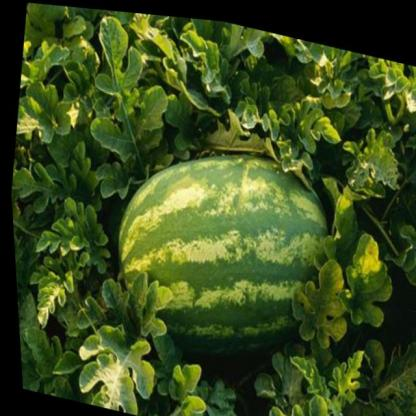watermelon: (97, 119, 342, 378)
